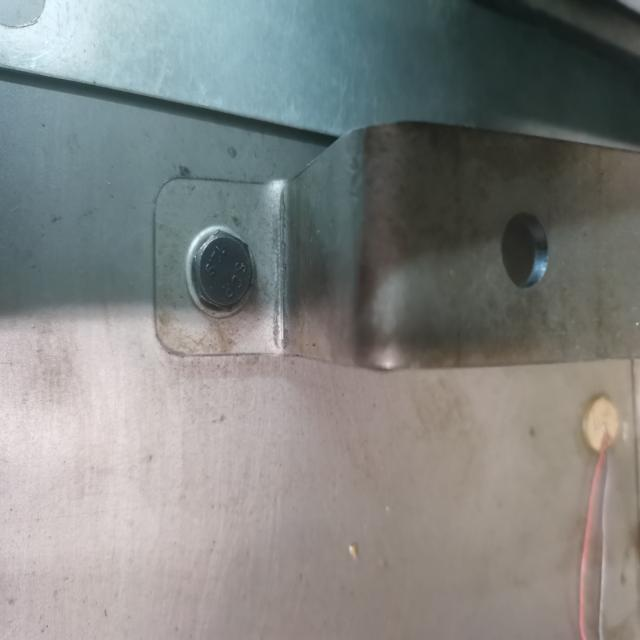bolt head: (193, 227, 254, 313)
